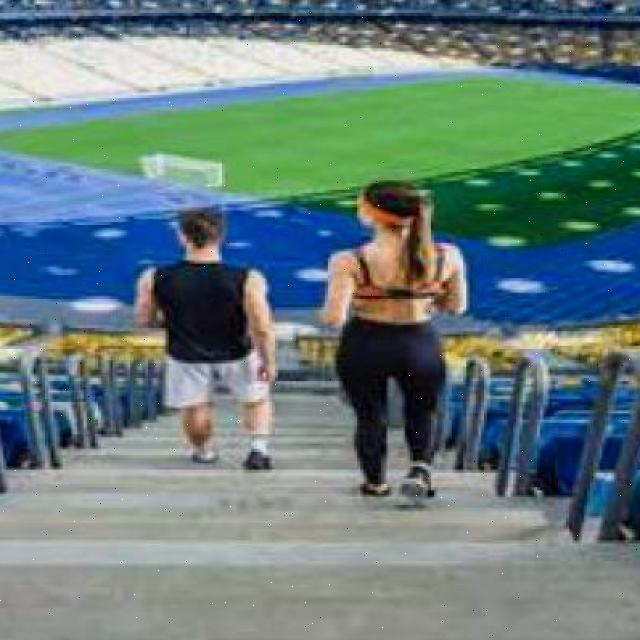stair: (40, 426, 515, 600)
